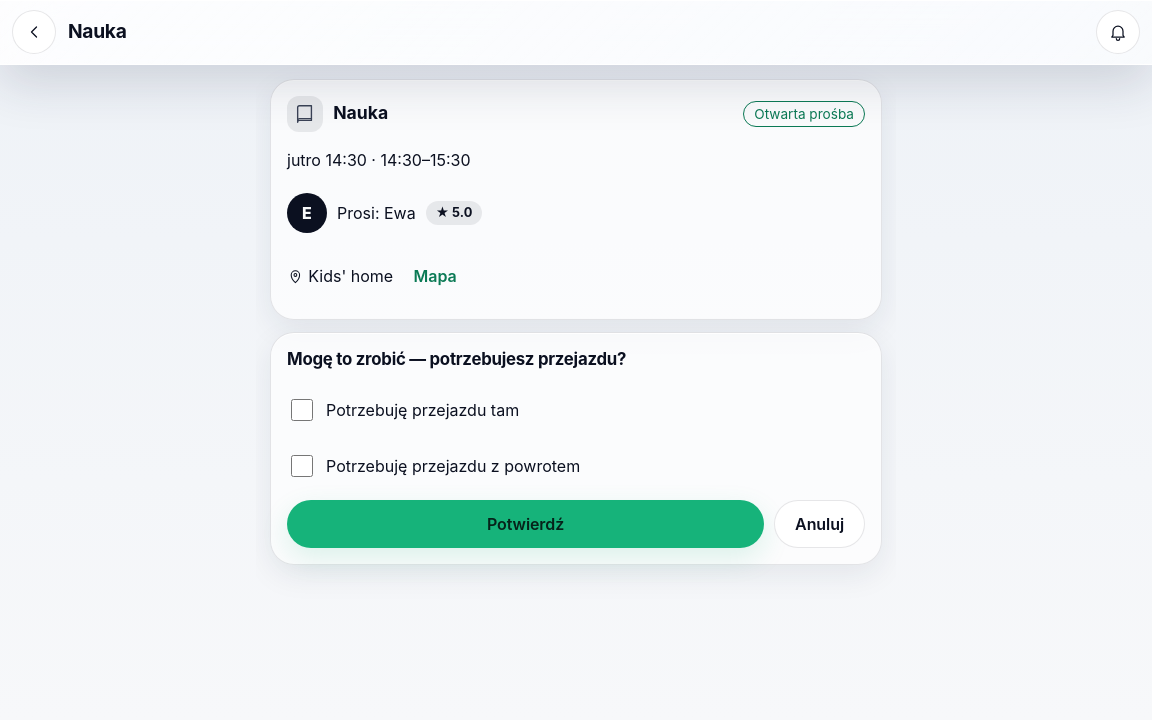
Test case: 2.1 C3: someone's open request and the take sheet (FR-163) › says when it clashes with the taker's schedule or someone was faster, and stays open — in Polish
Expected: the element with test id "take-sheet" shows "Mogę to zrobić — potrzebujesz przejazdu?", [287,349,626,369]
Click the button with test id "take-confirm" at [526, 524], box [287,500,764,548]
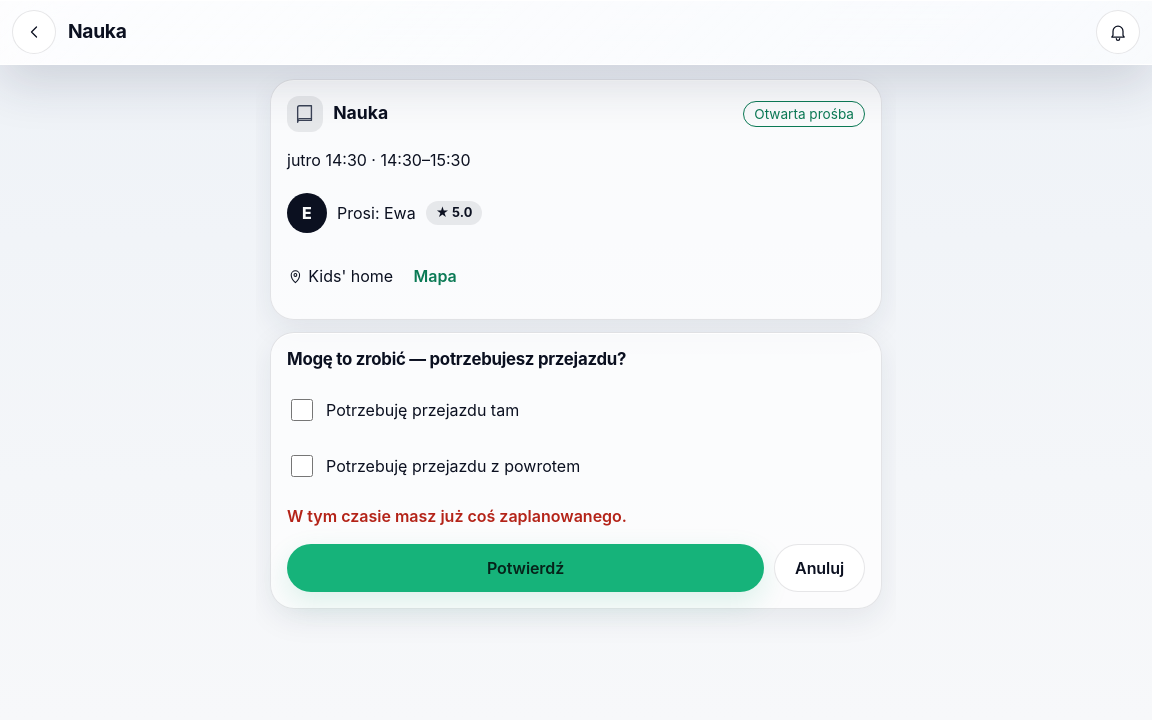
Now the message reads "W tym czasie masz już coś zaplanowanego.", box [287,506,627,526]
Click the button with test id "take-confirm" at [526, 568], box [287,544,764,592]
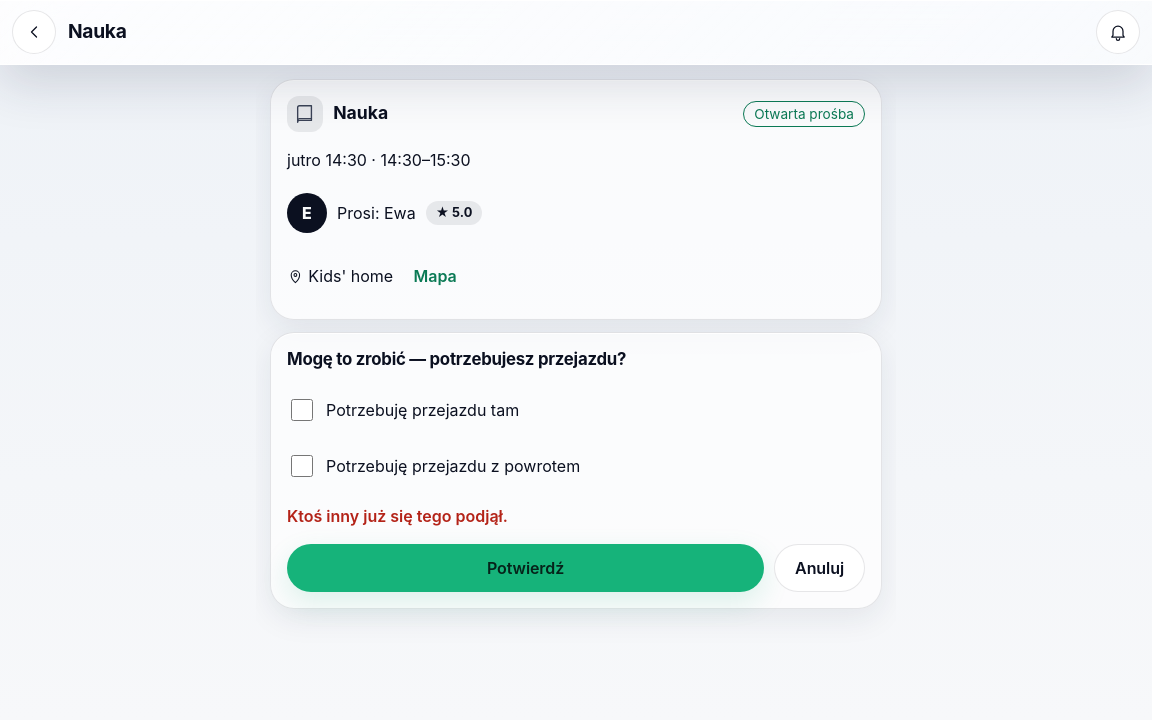
Expected: the element with test id "take-sheet" is shown, [270,332,882,609]
Now the message reads "Ktoś inny już się tego podjął.", box [287,506,508,526]
